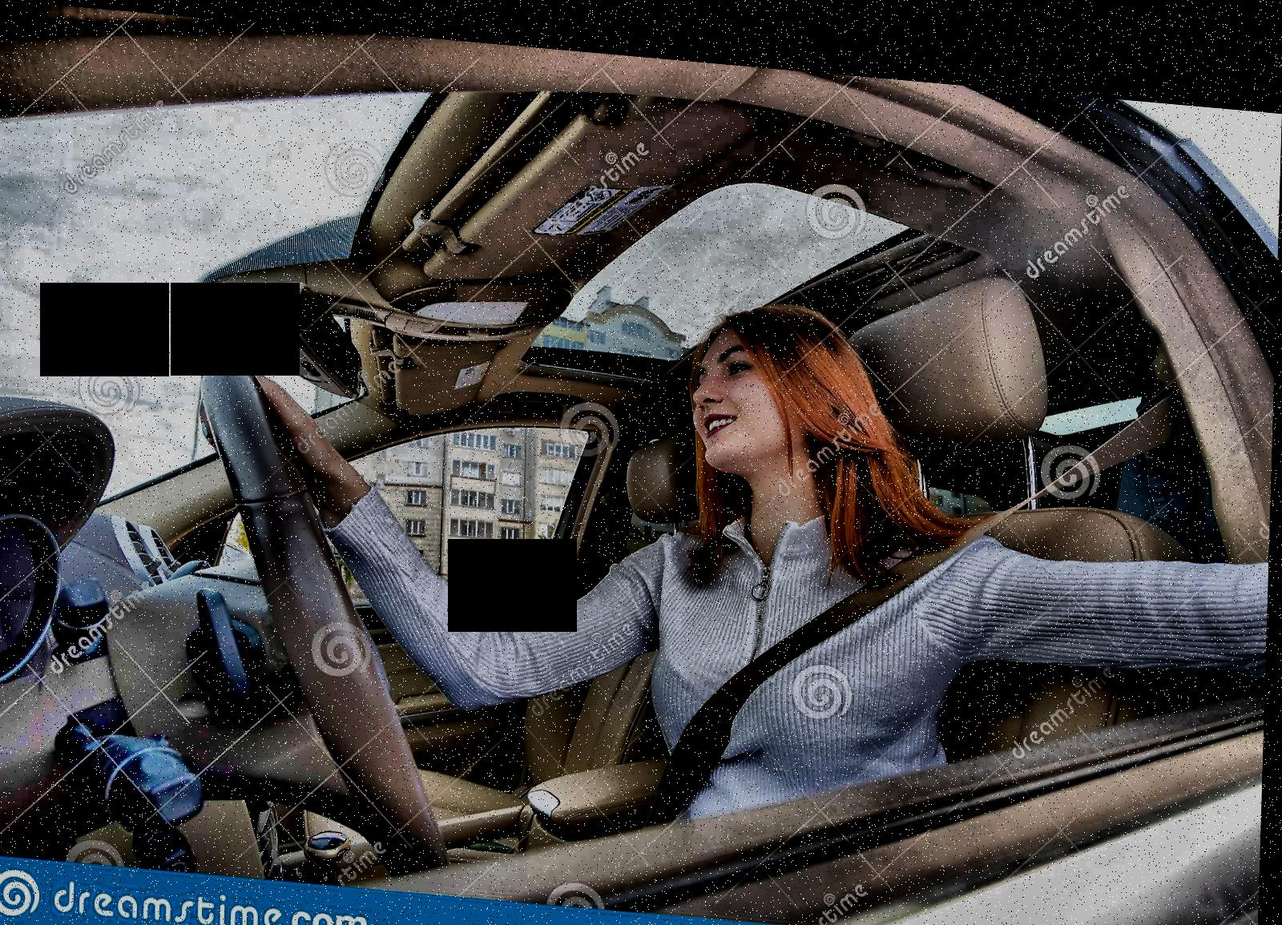seatbelt: (608, 318, 1210, 866)
